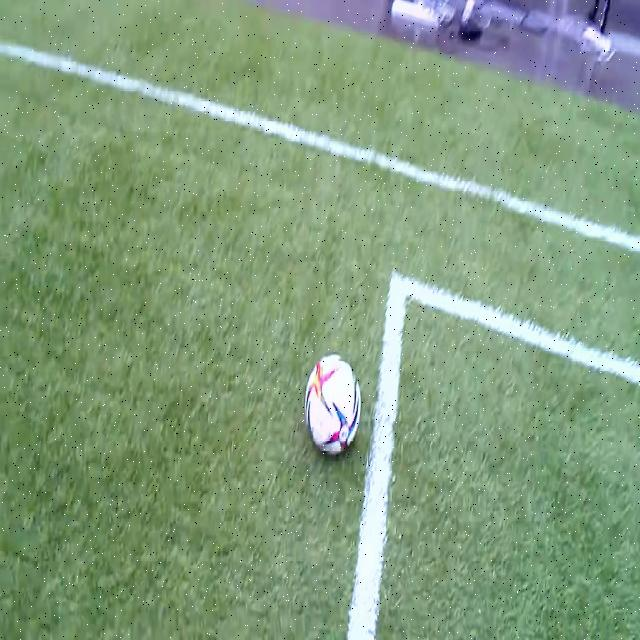ball: (305, 354, 360, 454)
